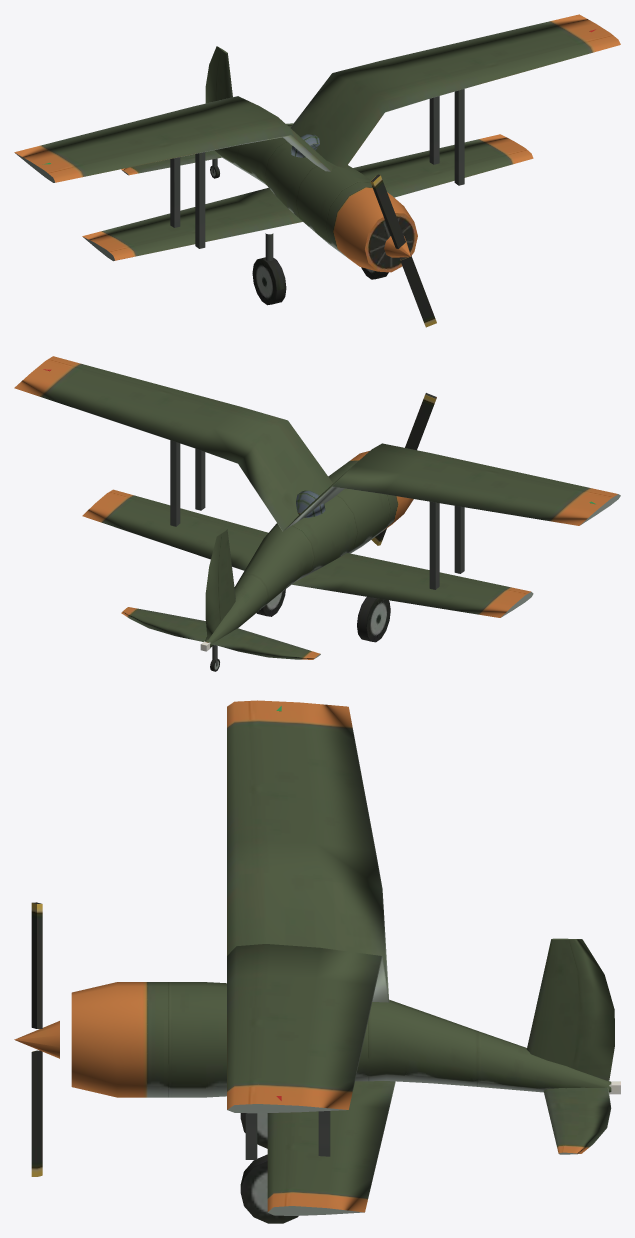
File: fighter.glb
3 views of the same model, one above another, from view 1: azimuth 30°, elevation 25°; view 2: azimuth 150°, elevation 25°; view 3: azimuth 270°, elevation 25° (orthographic). The views are drawn at different scales.
Parts seen in each view (by area): view 1: fuselage, prop_pales, wheel_right; view 2: fuselage, wheel_right, prop_pales; view 3: fuselage, prop_pales, wheel_left, prop.
Boxes of the visible parts, bbox=[...] form: fuselage: bbox=[14, 14, 620, 272]; prop_pales: bbox=[370, 174, 436, 327]; wheel_right: bbox=[252, 257, 286, 305]; fuselage: bbox=[14, 356, 620, 659]; wheel_right: bbox=[357, 597, 390, 642]; prop_pales: bbox=[371, 393, 436, 545]; fuselage: bbox=[71, 700, 620, 1215]; prop_pales: bbox=[31, 902, 42, 1176]; wheel_left: bbox=[240, 1154, 298, 1223]; prop: bbox=[14, 1021, 59, 1058].
Size of the model in its own units: 9.75 by 3.16 by 6.2.
Materials: 5 (5 with a texture image).
